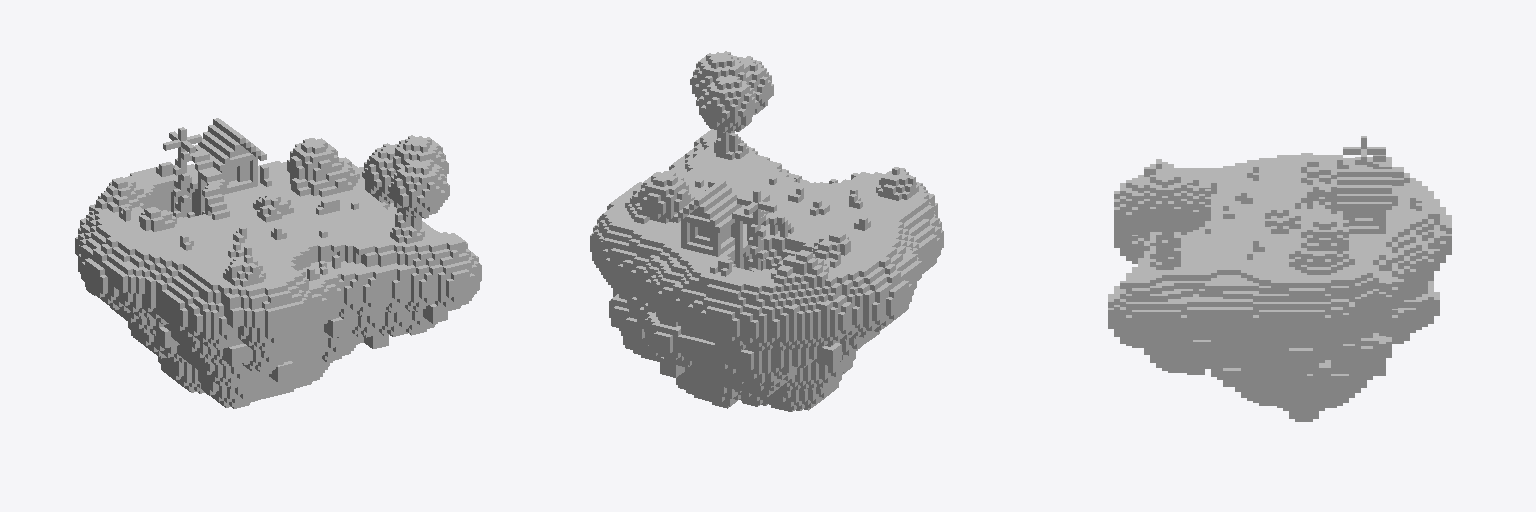
Rendered from Stone.obj.
3 renders of one model, left to right at view 1: azimuth 30°, elevation 25°; view 2: azimuth 150°, elevation 25°; view 3: azimuth 270°, elevation 25°, orthographic.
Parts seen in each view (by area): view 1: object 1; view 2: object 1; view 3: object 1.
Boxes of the visible parts, box(x1,y1,x2,y2) form: object 1: box(75, 118, 481, 408); object 1: box(590, 51, 943, 411); object 1: box(1108, 136, 1451, 421).
Bounding box in the file's own units: 5.7 × 4.8 × 5.7.